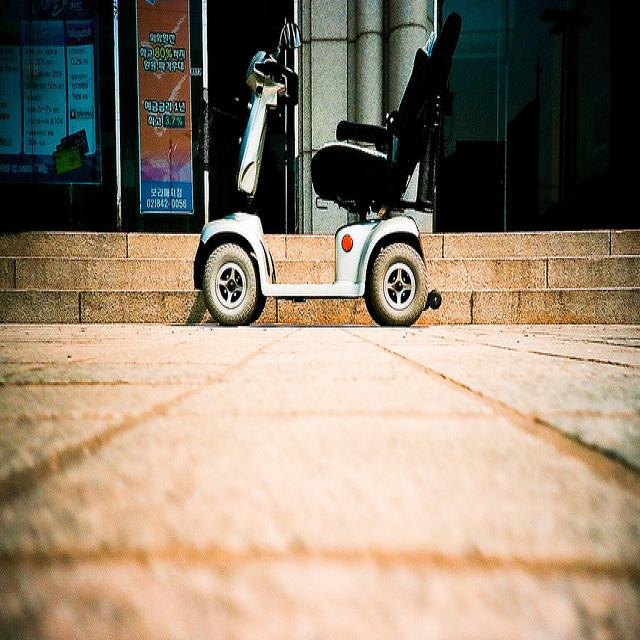motor: (194, 9, 464, 331)
